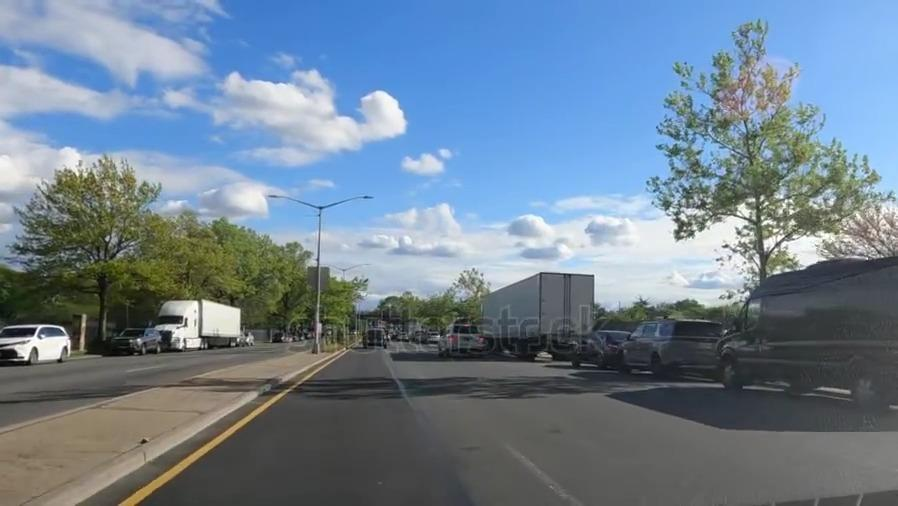car: (616, 319, 718, 369), (0, 322, 76, 366), (438, 325, 484, 354), (578, 331, 620, 362), (112, 326, 159, 351), (364, 329, 388, 347), (242, 331, 253, 344)
truck: (481, 272, 592, 355), (157, 296, 242, 352)
van: (726, 254, 898, 396)
